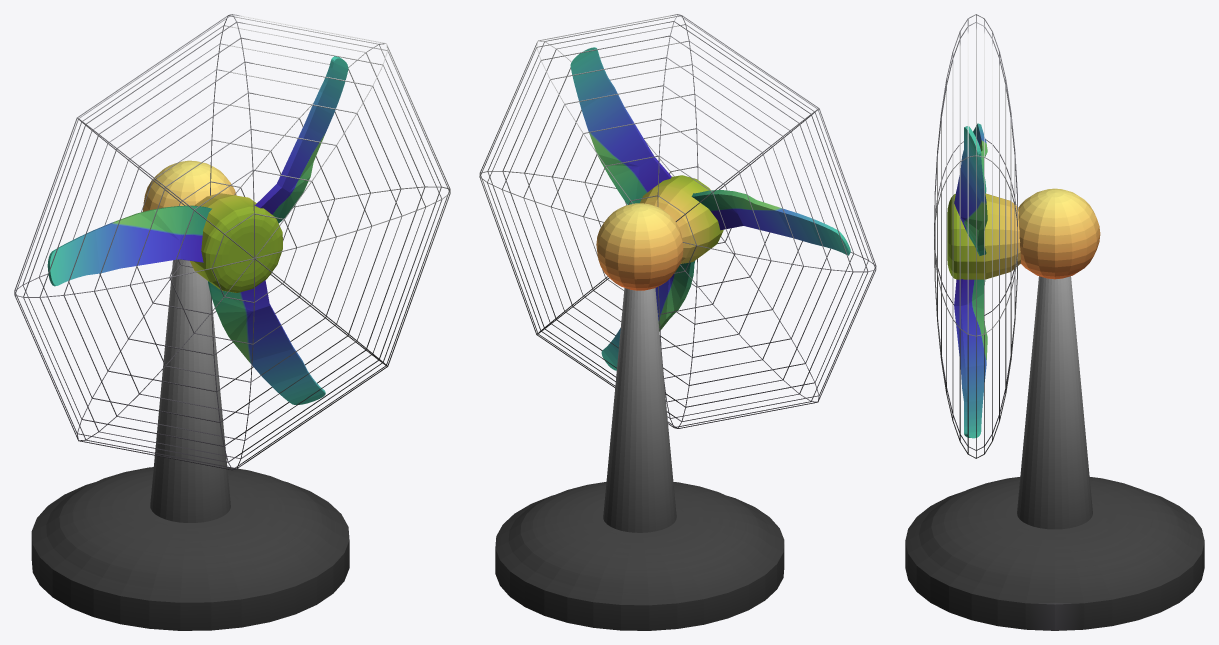
The model's file is deskFan.fbx.
The picture shows the model from 3 angles, left to right: view 1: azimuth 30°, elevation 25°; view 2: azimuth 150°, elevation 25°; view 3: azimuth 270°, elevation 25°; orthographic projection. The views are drawn at different scales.
Visible parts, largest first — view 1: deskFan, bladeguard, Cube.001, Blade, Cube.002, Cube.003, ballJoint; view 2: deskFan, bladeguard, Cube.003, ballJoint, Cube.001, Blade, Cube.002; view 3: deskFan, bladeguard, ballJoint, Blade, Cube.002, Cube.003.
Part boxes in pixels (x1=…): deskFan: x1=31, y1=259, x2=349, y2=630; bladeguard: x1=14, y1=14, x2=450, y2=470; Cube.001: x1=47, y1=205, x2=211, y2=286; Blade: x1=190, y1=193, x2=282, y2=292; Cube.002: x1=208, y1=280, x2=325, y2=404; Cube.003: x1=255, y1=56, x2=348, y2=223; ballJoint: x1=142, y1=160, x2=236, y2=211; deskFan: x1=495, y1=288, x2=784, y2=630; bladeguard: x1=479, y1=14, x2=876, y2=428; Cube.003: x1=570, y1=47, x2=671, y2=204; ballJoint: x1=596, y1=203, x2=683, y2=290; Cube.001: x1=691, y1=190, x2=850, y2=255; Blade: x1=640, y1=175, x2=723, y2=263; Cube.002: x1=601, y1=261, x2=694, y2=370; deskFan: x1=905, y1=276, x2=1204, y2=630; bladeguard: x1=934, y1=14, x2=1017, y2=458; ballJoint: x1=1018, y1=188, x2=1100, y2=279; Blade: x1=947, y1=193, x2=1020, y2=279; Cube.002: x1=954, y1=279, x2=987, y2=438; Cube.003: x1=954, y1=126, x2=987, y2=255.
Size of the model in its own units: 704 by 896 by 445.
1 material, 1 textured.
